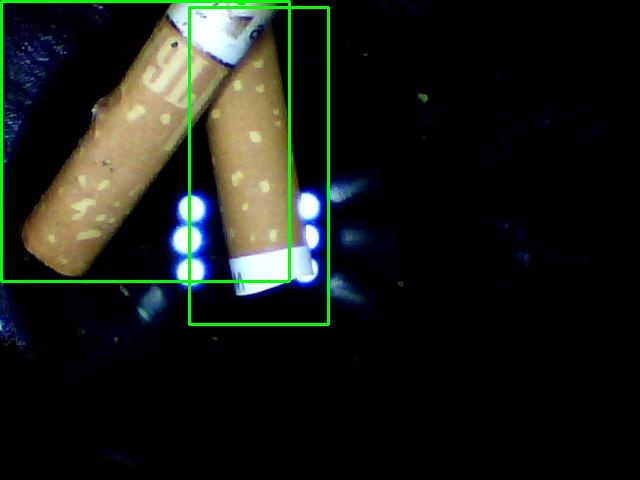megot: (1, 1, 289, 281), (189, 7, 328, 324)
